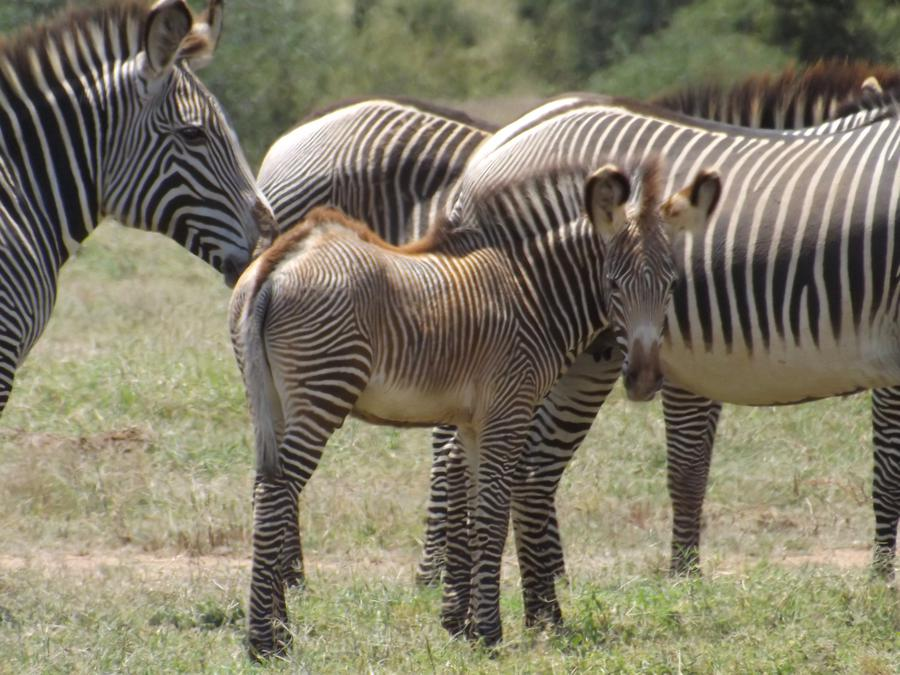zebra_grevys: (268, 215, 537, 410)
